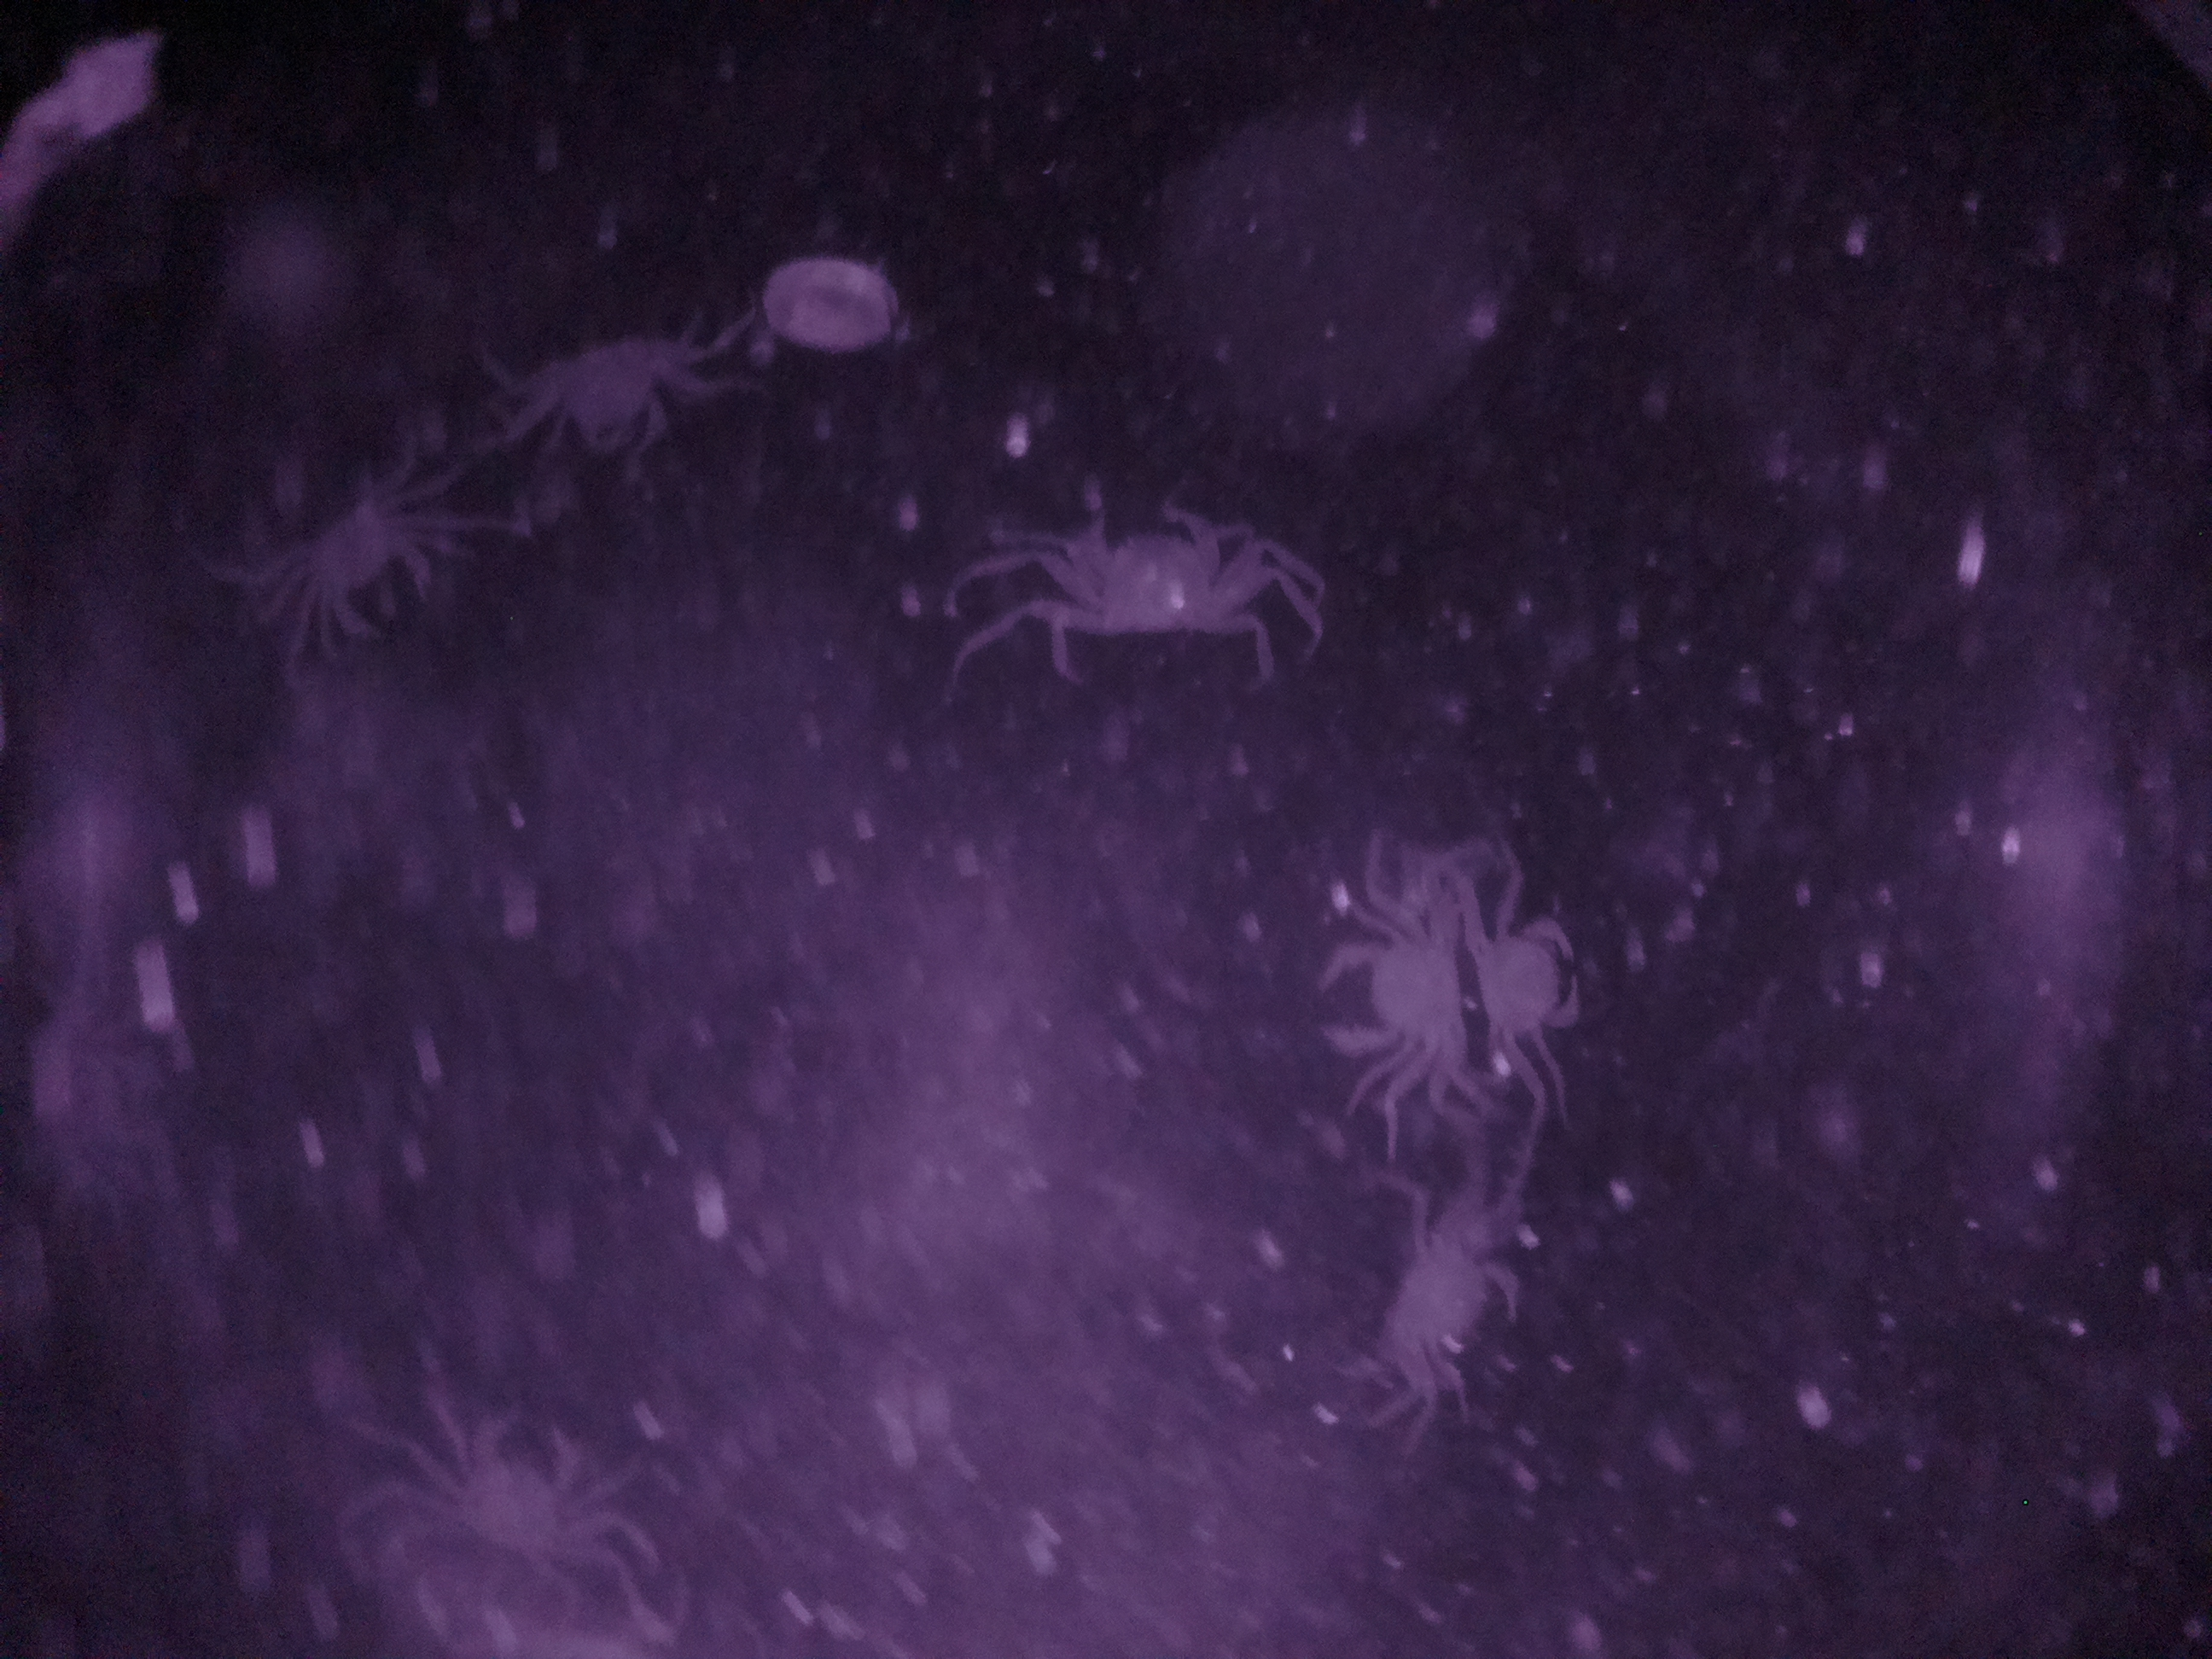Crab: (1010, 488, 1245, 685), (1284, 889, 1465, 1086), (1465, 873, 1622, 1077)
